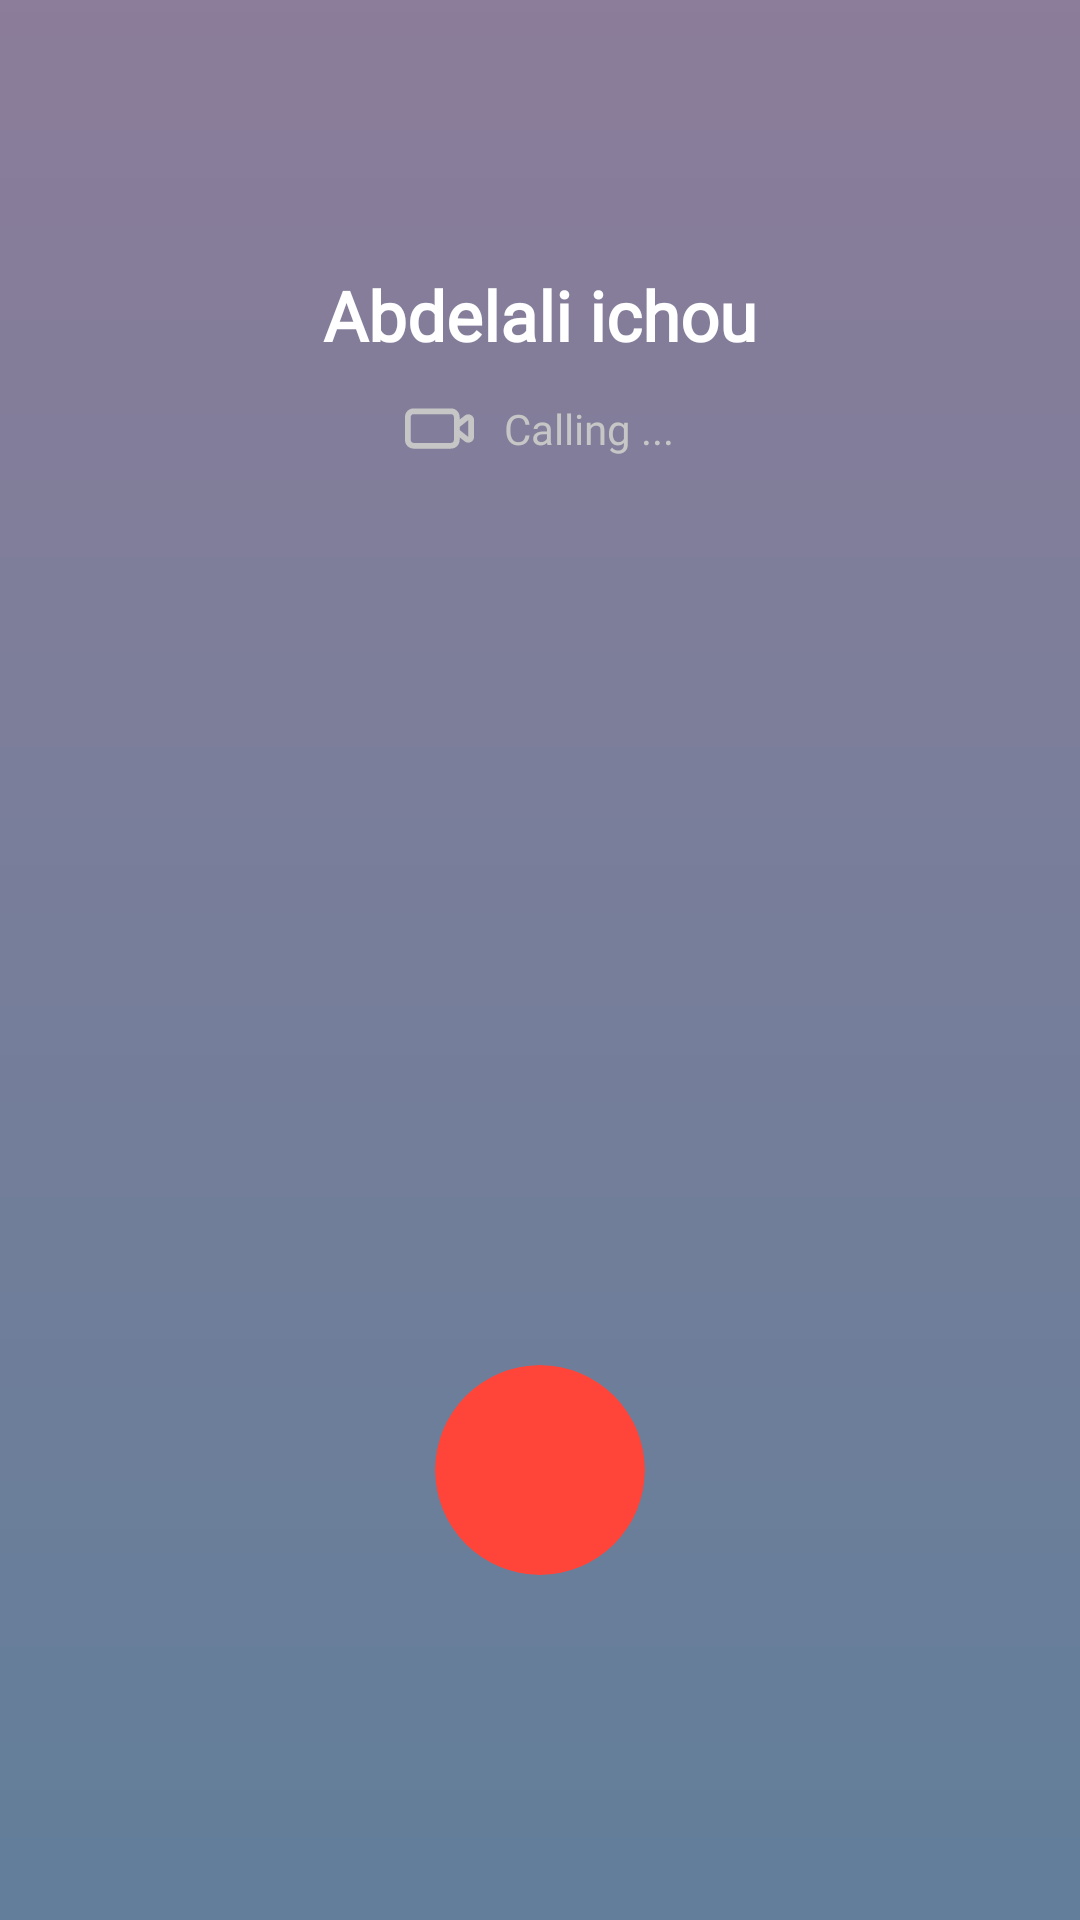

Icons on this 1080x1920 Android screen, each with the point to tap as point (x, y):
video call: point (439, 428)
